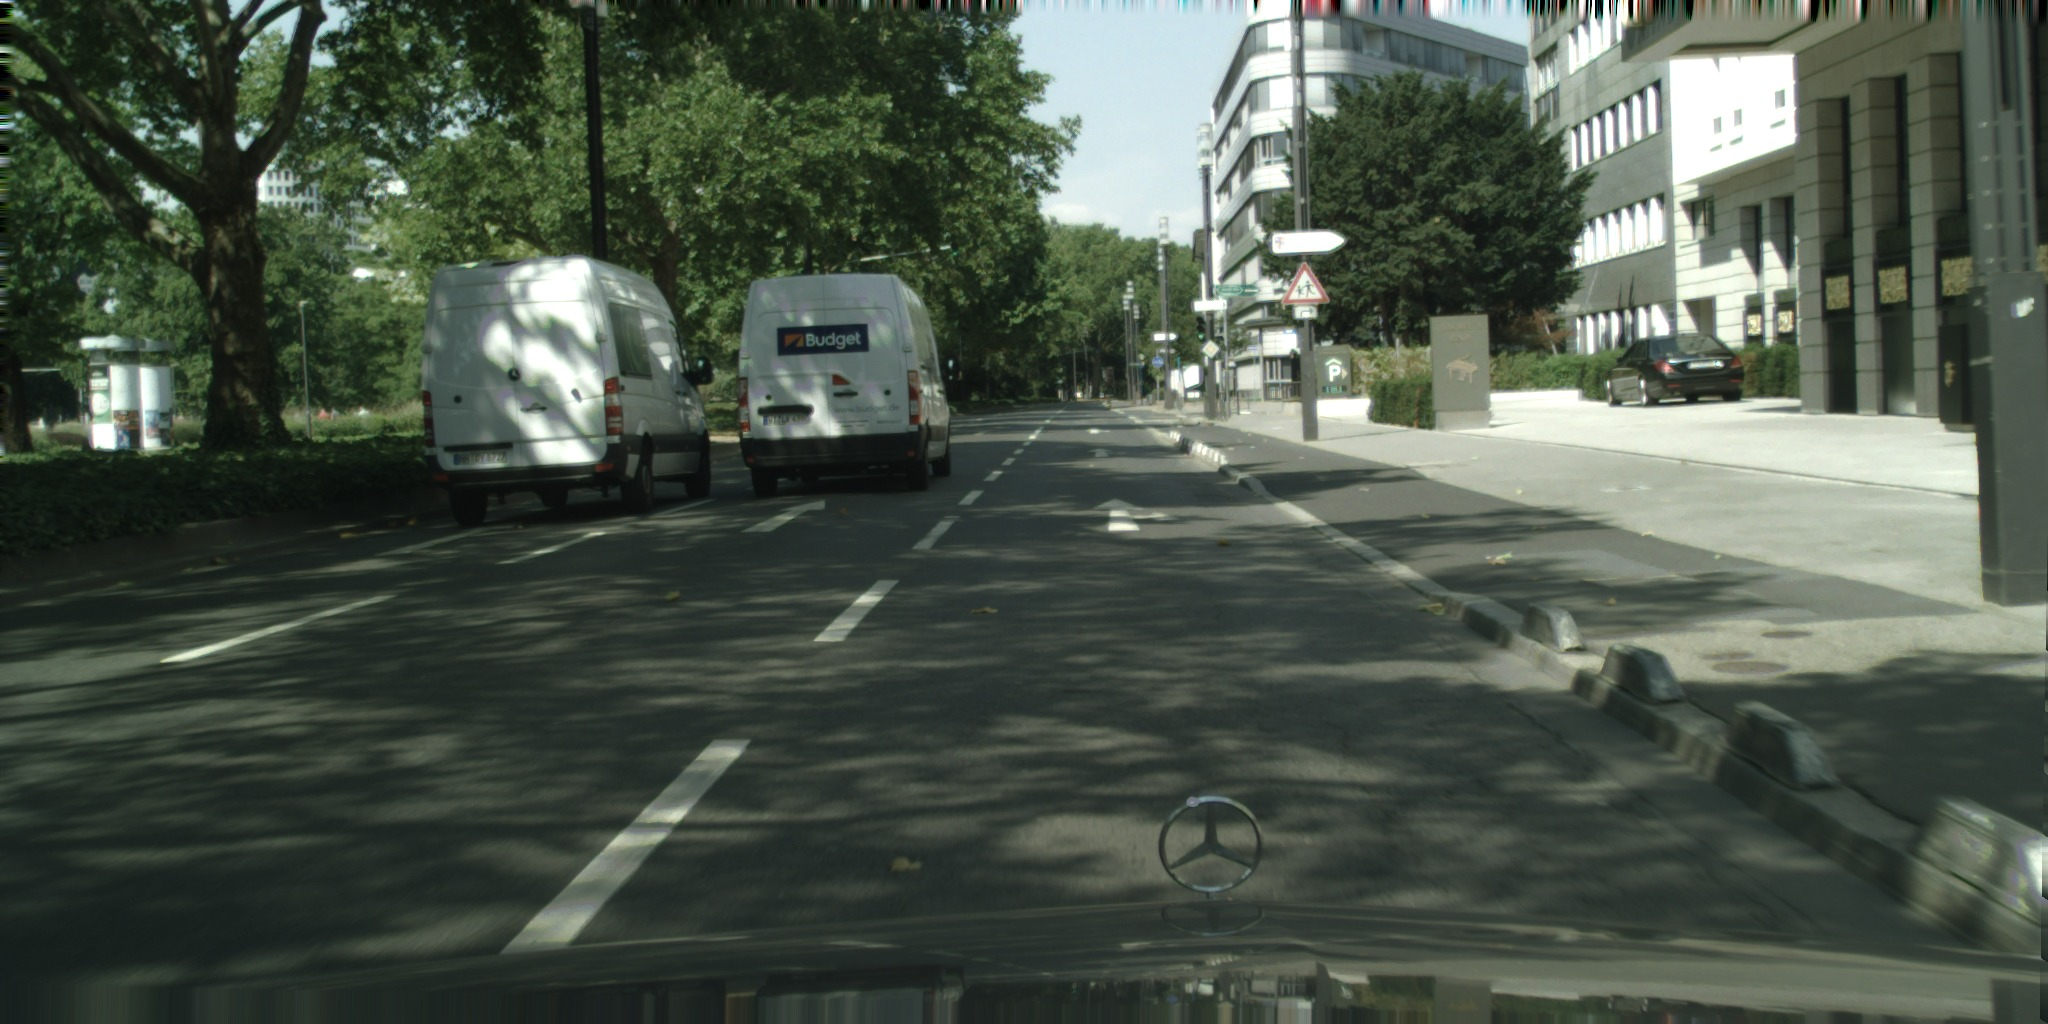car: (419, 255, 714, 526), (737, 272, 961, 498), (1604, 332, 1744, 406)
